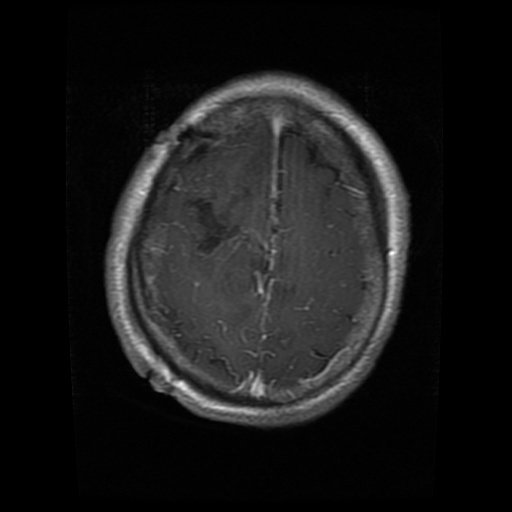glioma: (195, 200, 243, 255)
